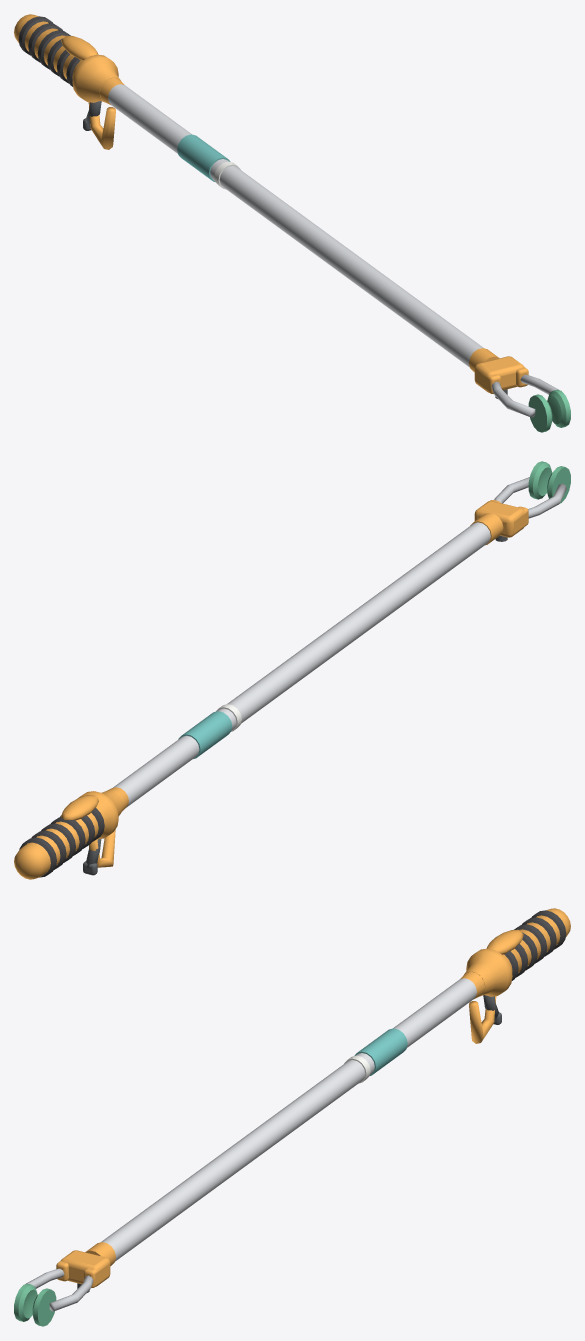
Rendered from litter_picker.fbx.
3 views of the same model, one above another, from view 1: azimuth 30°, elevation 25°; view 2: azimuth 150°, elevation 25°; view 3: azimuth 330°, elevation 25° (orthographic).
Visible parts, largest first — view 1: litter_picker, JawL, JawR; view 2: litter_picker, JawL, JawR; view 3: litter_picker, JawR, JawL.
Boxes of the visible parts, left/top/right/bottom form: litter_picker: left=14, top=14, right=524, bottom=398; JawL: left=485, top=374, right=552, bottom=432; JawR: left=516, top=367, right=570, bottom=427; litter_picker: left=14, top=501, right=524, bottom=879; JawL: left=518, top=466, right=570, bottom=527; JawR: left=490, top=461, right=552, bottom=503; litter_picker: left=60, top=908, right=570, bottom=1292; JawR: left=32, top=1268, right=100, bottom=1326; JawL: left=14, top=1261, right=68, bottom=1321.
Size of the model in its own units: 0.0592 by 0.09 by 1.01.
